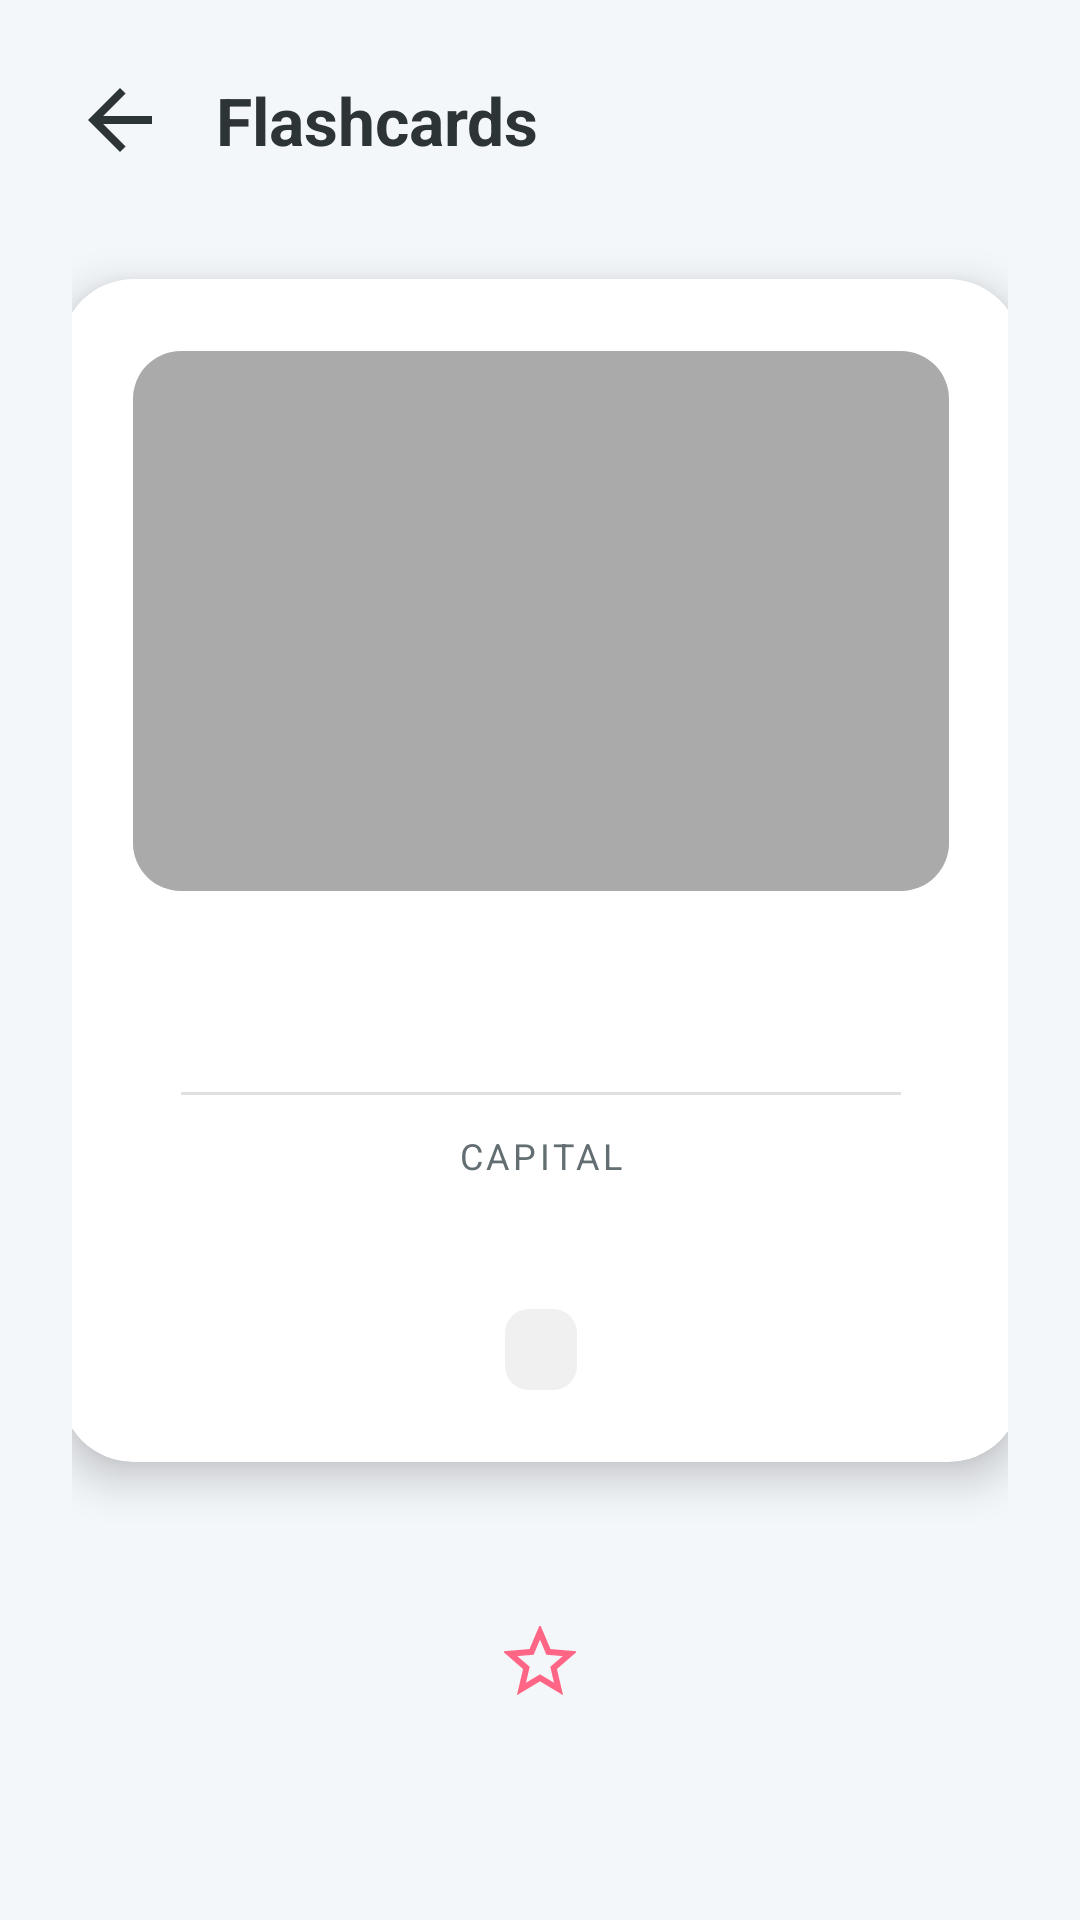

Named icons in this screenshot (1080 x 1920) and their bounding boxes, bbox(x1, y1, x2, y2):
star: bbox(504, 1626, 576, 1695)
